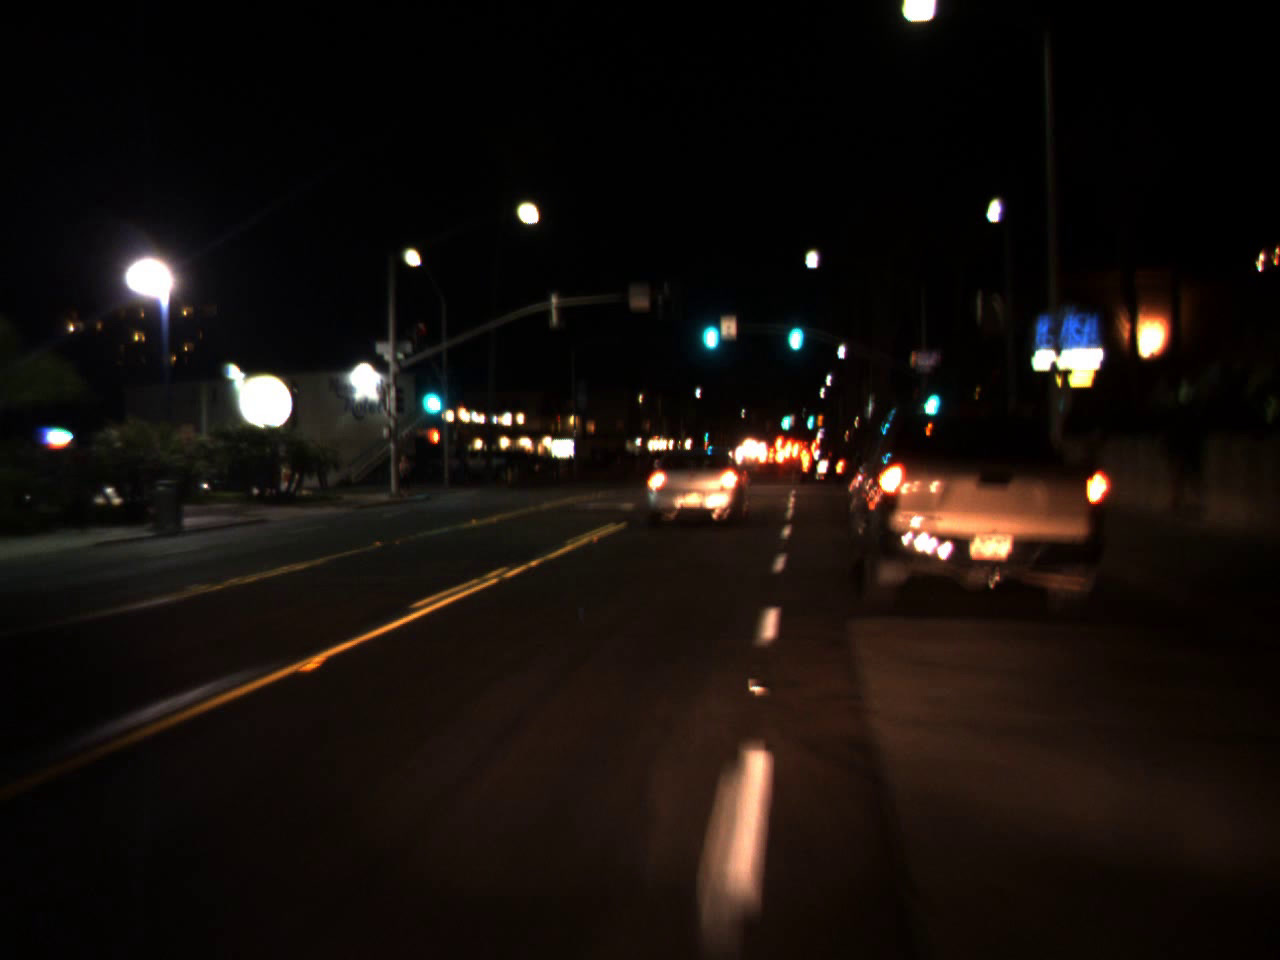go: (416, 364, 444, 424), (697, 295, 722, 358), (783, 297, 806, 360), (917, 373, 945, 421), (781, 400, 791, 433), (805, 400, 814, 433)
